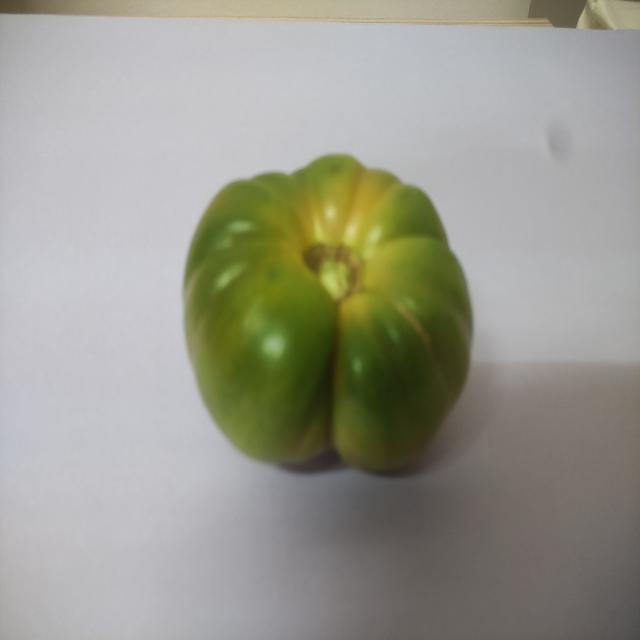yesil: (168, 140, 482, 489)
